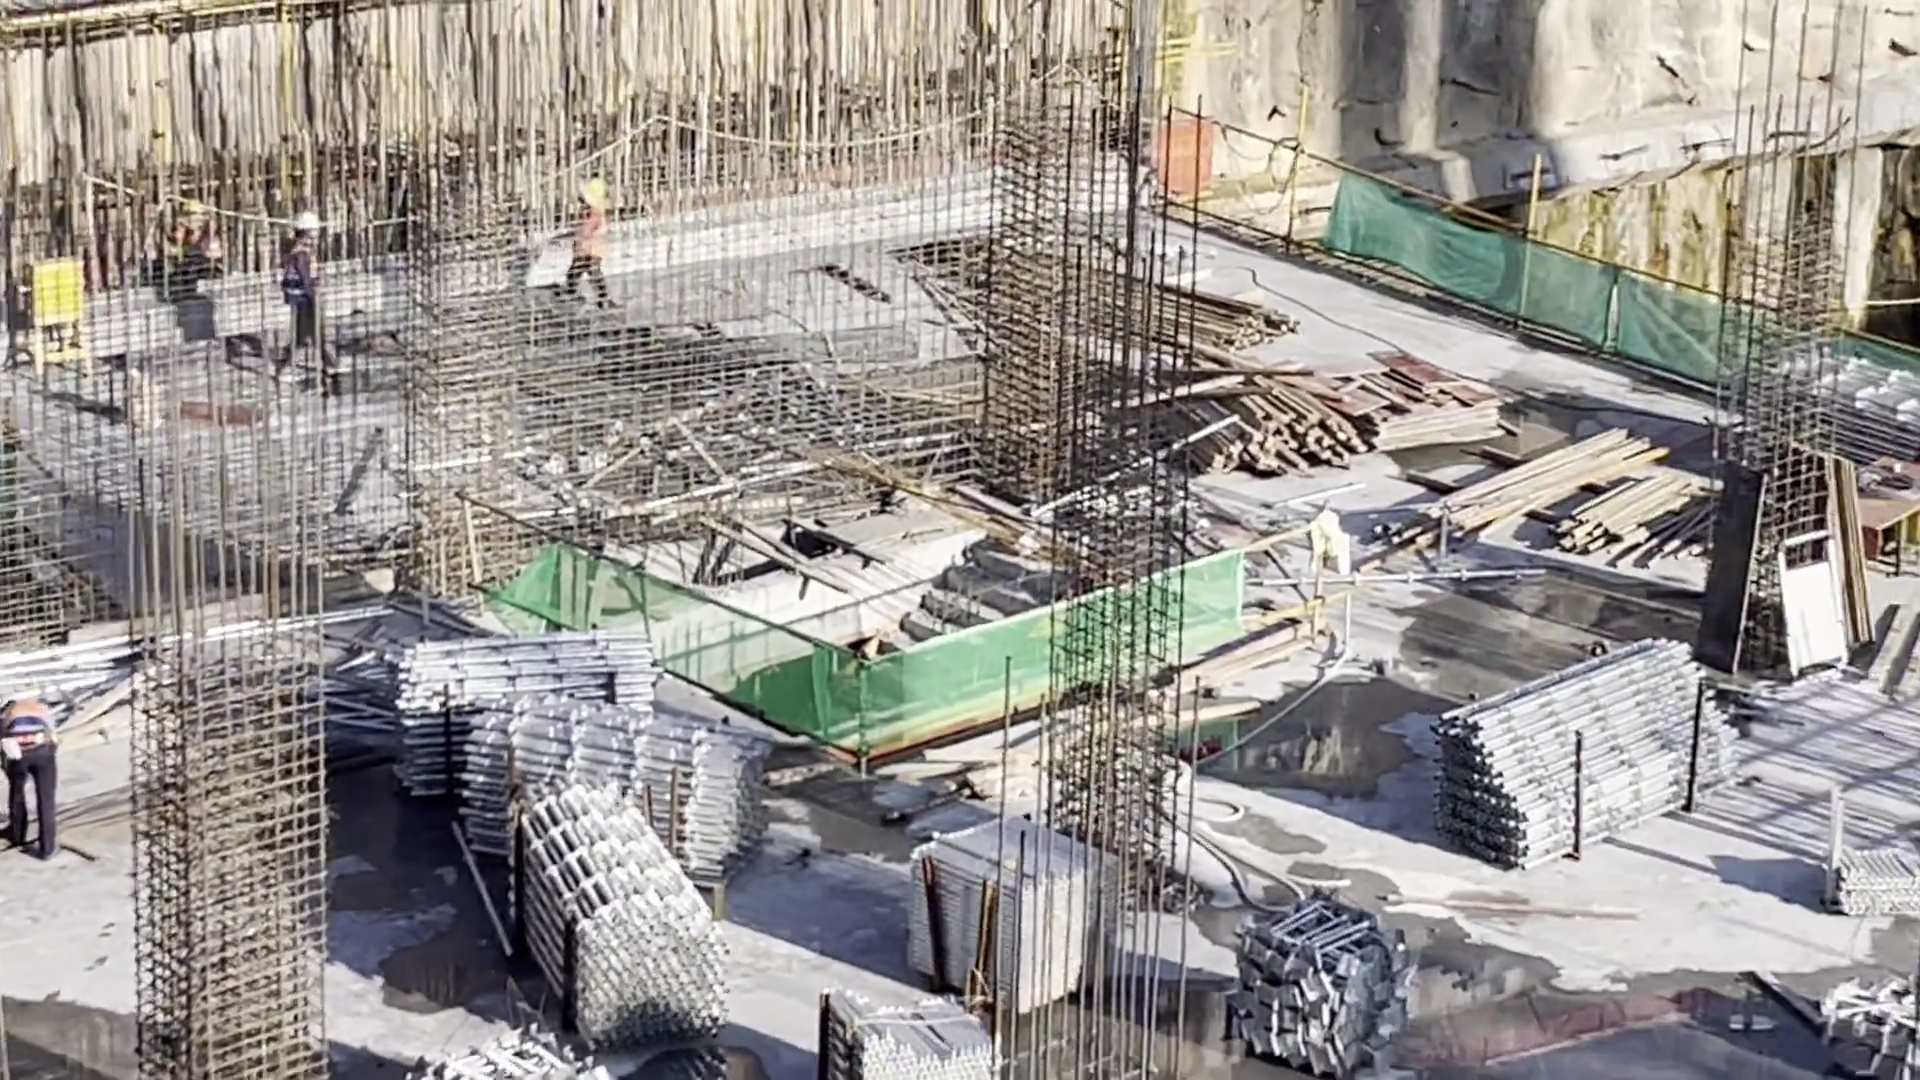board: (1368, 357, 1496, 444)
cutter: (1839, 449, 1918, 549)
ebox: (34, 259, 100, 333)
helmet: (286, 210, 324, 234), (583, 177, 606, 201)
person: (1, 694, 70, 864), (274, 209, 332, 352), (558, 176, 613, 302), (165, 192, 227, 290)
scaffold: (1444, 645, 1732, 847), (529, 799, 696, 1069), (487, 693, 708, 881), (356, 619, 613, 748), (887, 844, 1129, 952), (1755, 361, 1920, 452), (816, 999, 999, 1071), (1807, 835, 1919, 912)
vest: (1, 696, 59, 749), (280, 247, 324, 299), (577, 217, 606, 258)
wood: (1422, 451, 1656, 531), (1069, 262, 1265, 346), (1175, 371, 1351, 459), (1579, 483, 1707, 543)
